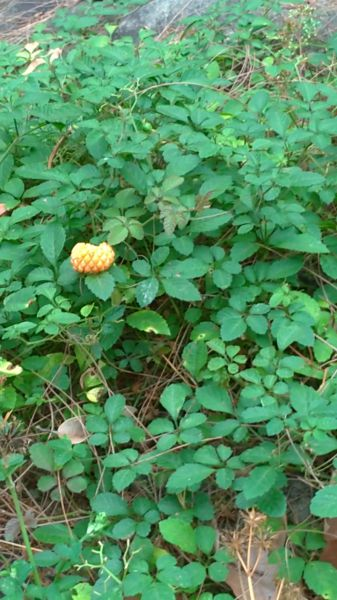eggs: (70, 237, 116, 278)
